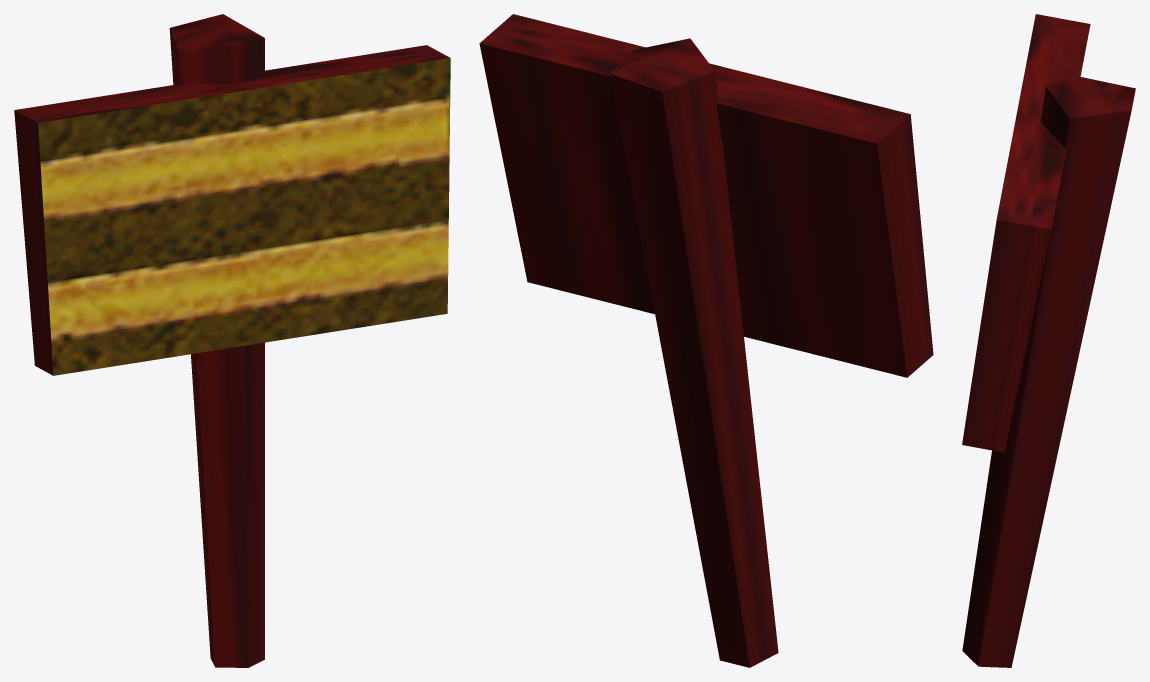
File: SignYellowStripe.gltf
3 views of the same model, side by side, from view 1: azimuth 30°, elevation 25°; view 2: azimuth 150°, elevation 25°; view 3: azimuth 270°, elevation 25° (orthographic). The views are drawn at different scales.
Parts seen in each view (by area): view 1: SignYellowStripeMesh; view 2: SignYellowStripeMesh; view 3: SignYellowStripeMesh.
Part boxes in pixels (<box>): SignYellowStripeMesh: <box>14,14,450,667</box>; SignYellowStripeMesh: <box>479,14,933,667</box>; SignYellowStripeMesh: <box>962,14,1135,667</box>.
Bounding box in the file's own units: 1.67 × 2.38 × 0.6383.
Materials: 1 (1 with a texture image).
